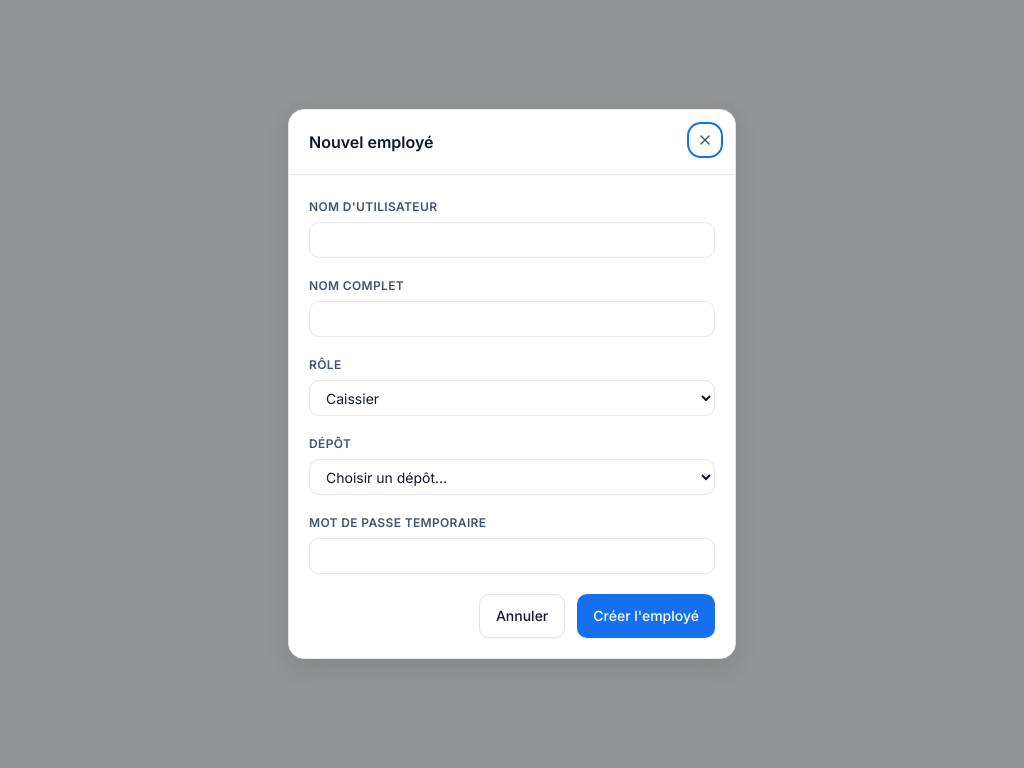
it: StaffPage › shows depot field for cashier and hides it for admin
Expected: the dropdown labelled "Dépôt" is shown, x1=309 y1=459 x2=715 y2=495
Select "Admin" in the dropdown labelled "Rôle": (512, 398) x1=309 y1=380 x2=715 y2=416
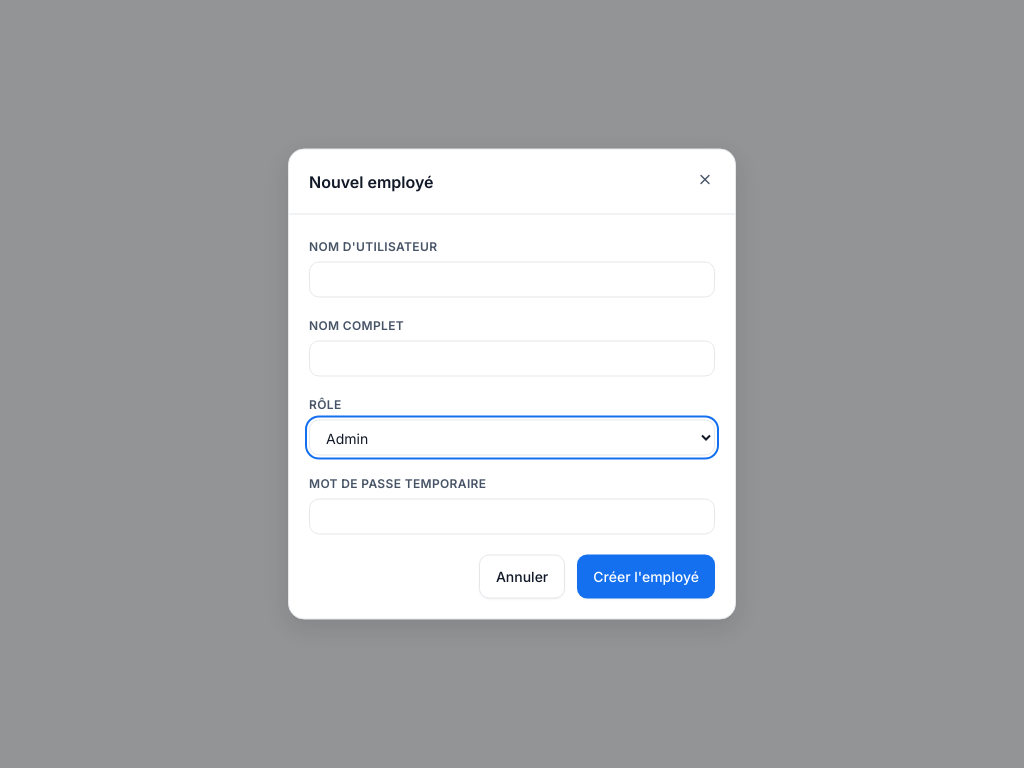
Expected: the text "Dépôt" is gone
